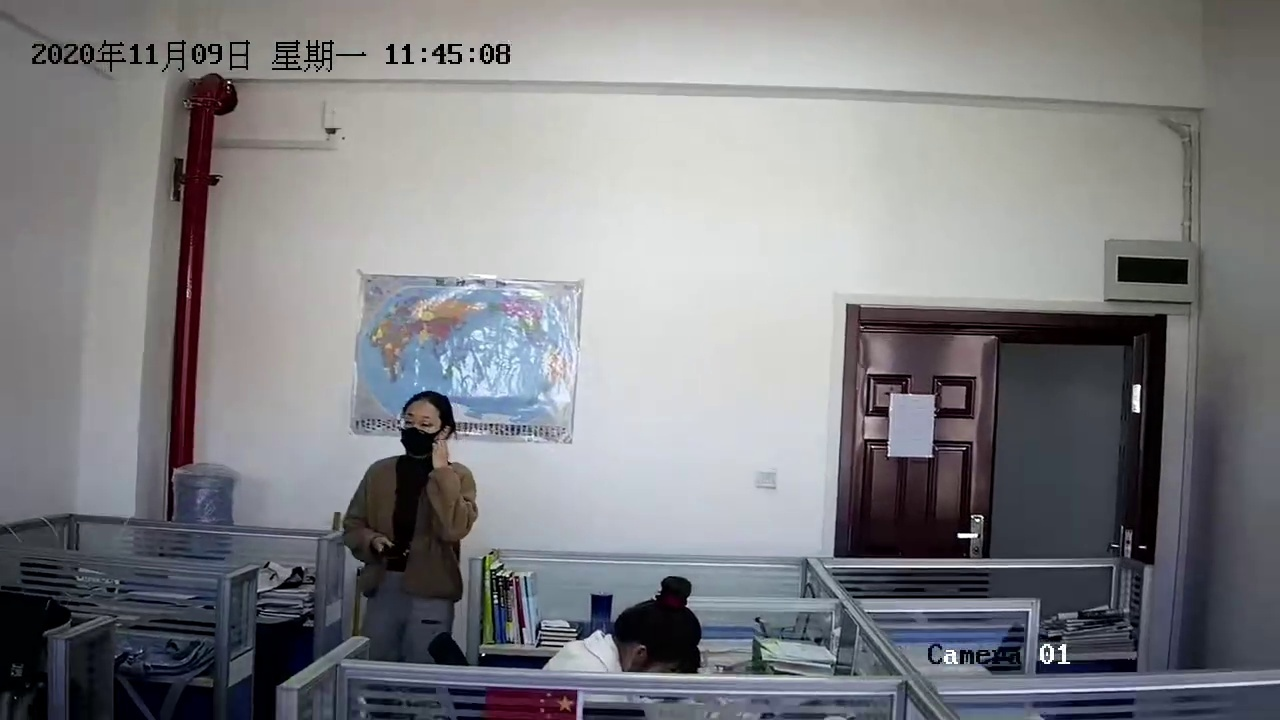mask: (394, 389, 448, 458)
